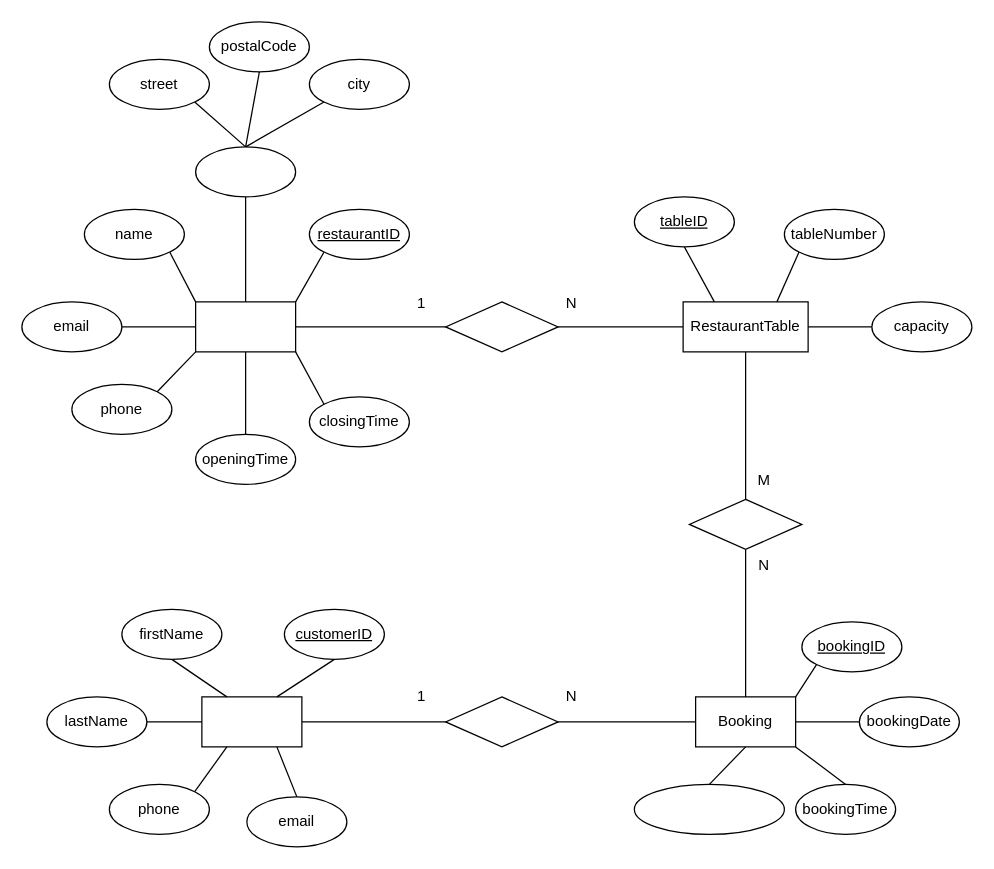
The diagram is 994 pixels wide and 869 high, and some of its shapes have lost their labels. The shapes that lost their labels are listed below. From the top down, each one's centre as x and y in pixels, then its label:
the point at 245,171: address
the point at 245,326: Restaurant
the point at 501,326: has
the point at 745,523: reserves
the point at 251,721: Customer
the point at 501,721: makes
the point at 708,808: numberOfGuests
